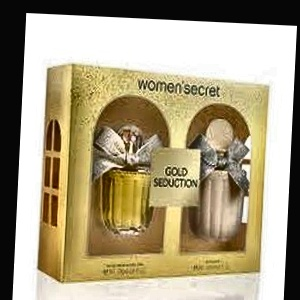women_secret: (171, 49, 284, 112)
